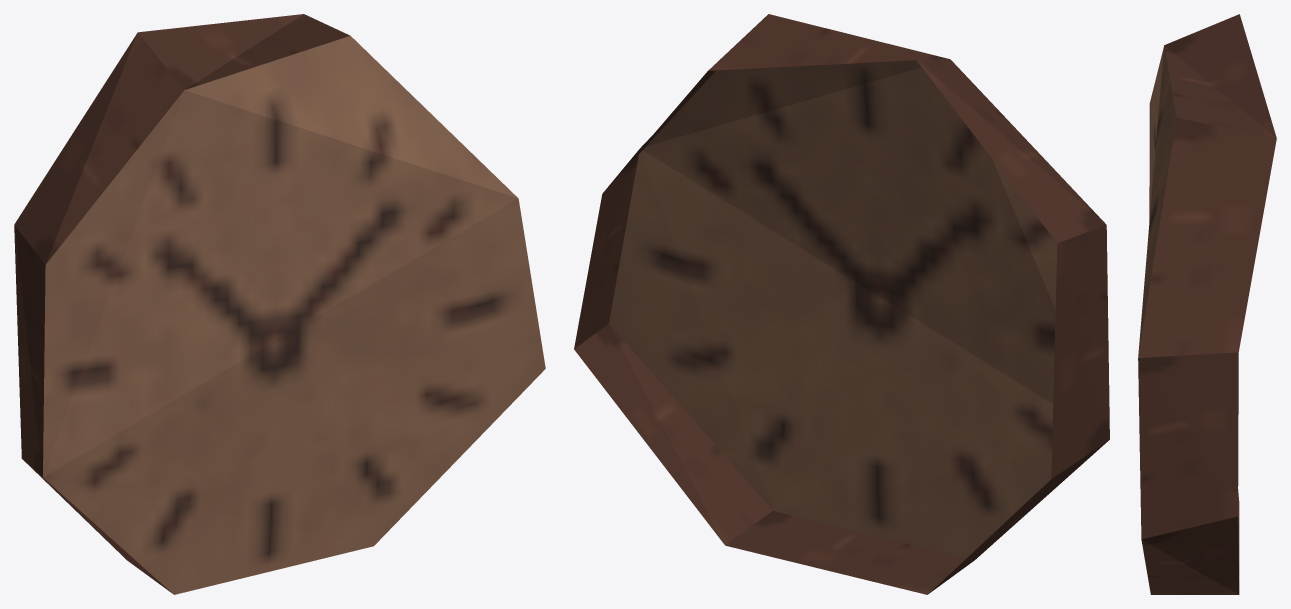
File: SM_WallClock.fbx
The picture shows the model from 3 angles, left to right: view 1: azimuth 30°, elevation 25°; view 2: azimuth 150°, elevation 25°; view 3: azimuth 270°, elevation 25°; orthographic projection. The views are drawn at different scales.
Parts seen in each view (by area): view 1: WallClock_Visual; view 2: WallClock_Visual; view 3: WallClock_Visual.
Part boxes in pixels (<box>): WallClock_Visual: <box>14,14,545,594</box>; WallClock_Visual: <box>574,14,1109,594</box>; WallClock_Visual: <box>1138,14,1276,594</box>.
Size of the model in its own units: 0.3059 by 0.308 by 0.0784.
